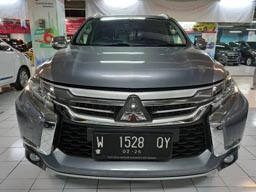plat: (92, 134, 170, 149)
